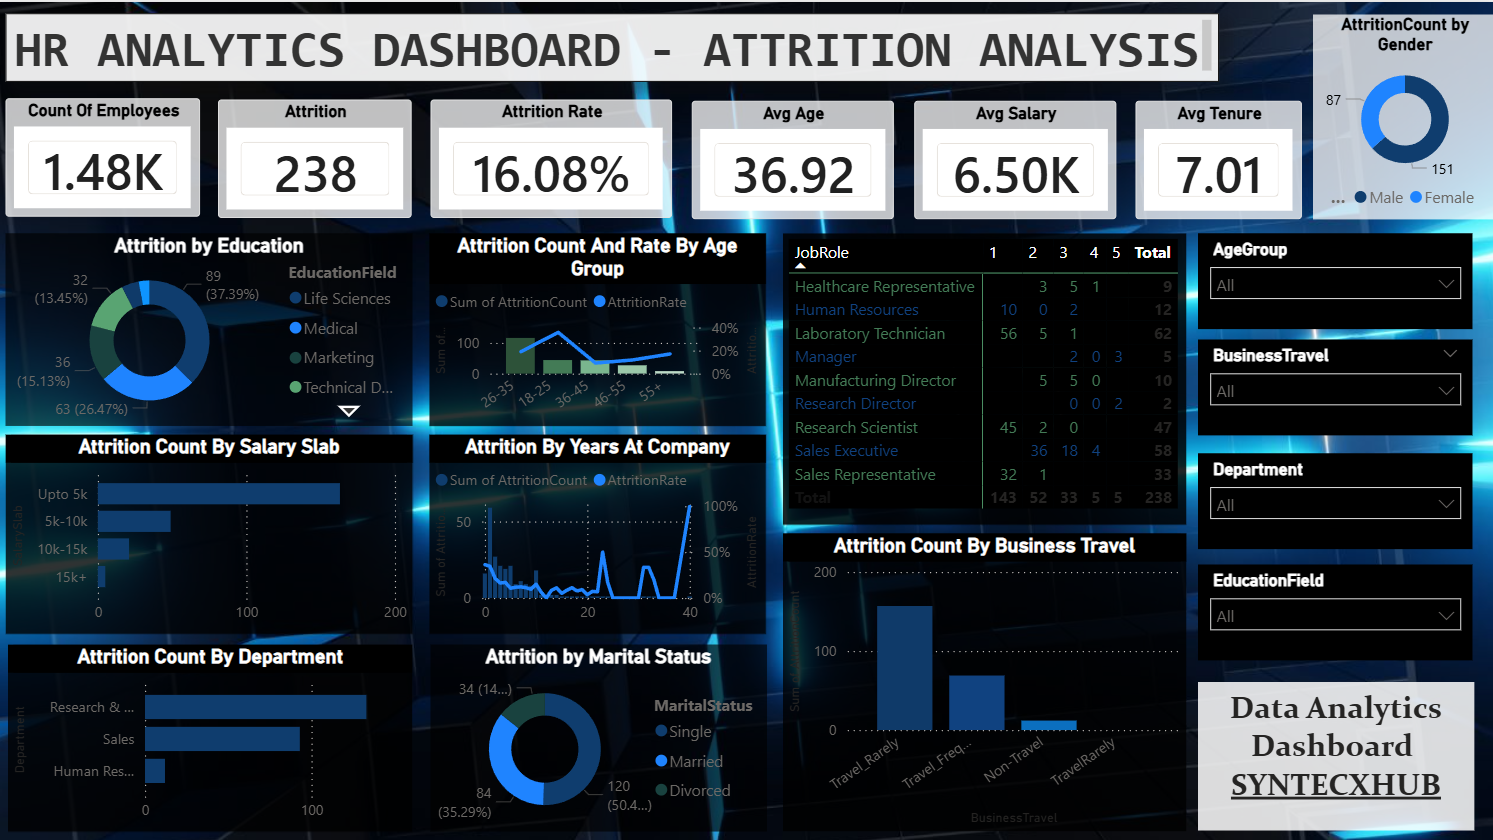

This screenshot's page, from the dashboard's own definition file:
{"tool":"powerbi","page":{"name":"Page 1","canvas":[1280,720],"ordinal":0},"visuals":[{"type":"textbox","box":[10.5,9.3,1032.6,58.1],"z":0},{"type":"cardVisual","title":"Count Of Employees","fields":{"Data":["CountNonNull(HR_Analytics - HR_Analytics csv.EmpID)"]},"box":[10.2,81.8,165.9,101.1],"z":1000},{"type":"cardVisual","title":"Attrition","fields":{"Data":["Sum(HR_Analytics - HR_Analytics csv.AttritionCount)"]},"box":[191.9,82.6,165.1,101.2],"z":2000},{"type":"cardVisual","title":"Attrition Rate","fields":{"Data":["HR_Analytics - HR_Analytics csv.AttritionRate"]},"box":[372.1,82.6,205.8,101.2],"z":3000},{"type":"cardVisual","title":"Avg Age","fields":{"Data":["Avg(HR_Analytics - HR_Analytics csv.Age)"]},"box":[594.2,83.7,172.1,101.2],"z":4000},{"type":"cardVisual","title":"Avg Salary","fields":{"Data":["Avg(HR_Analytics - HR_Analytics csv.MonthlyIncome)"]},"box":[783.7,83.7,172.1,101.2],"z":5000},{"type":"cardVisual","title":"Avg Tenure","fields":{"Data":["Avg(HR_Analytics - HR_Analytics csv.YearsAtCompany)"]},"box":[972.1,83.7,141.9,101.2],"z":6000},{"type":"donutChart","title":"AttritionCount by Gender","fields":{"Category":["HR_Analytics - HR_Analytics csv.Gender"],"Y":["Sum(HR_Analytics - HR_Analytics csv.AttritionCount)"]},"box":[1123.3,10.5,157,174.4],"z":7000},{"type":"donutChart","title":" Attrition by Education","fields":{"Category":["HR_Analytics - HR_Analytics csv.EducationField","HR_Analytics - HR_Analytics csv.YearsAtCompany"],"Y":["Sum(HR_Analytics - HR_Analytics csv.AttritionCount)"]},"box":[10.2,196.6,346.6,163.6],"z":8000},{"type":"lineStackedColumnComboChart","title":"Attrition Count And Rate By Age Group","fields":{"Category":["HR_Analytics - HR_Analytics csv.AgeGroup"],"Y":["Sum(HR_Analytics - HR_Analytics csv.AttritionCount)"],"Y2":["HR_Analytics - HR_Analytics csv.AttritionRate"]},"box":[371.6,196.6,286.4,163.6],"z":9000},{"type":"pivotTable","fields":{"Rows":["HR_Analytics - HR_Analytics csv.JobRole"],"Columns":["HR_Analytics - HR_Analytics csv.JobLevel"],"Values":["Sum(HR_Analytics - HR_Analytics csv.AttritionCount)"]},"box":[672.1,196.5,343,247.7],"z":10000},{"type":"barChart","title":"Attrition Count By Salary Slab","fields":{"Y":["Sum(HR_Analytics - HR_Analytics csv.AttritionCount)"],"Category":["HR_Analytics - HR_Analytics csv.SalarySlab"]},"box":[10.2,368.2,346.6,169.3],"z":11000},{"type":"lineStackedColumnComboChart","title":"Attrition By Years At Company","fields":{"Y":["Sum(HR_Analytics - HR_Analytics csv.AttritionCount)"],"Y2":["HR_Analytics - HR_Analytics csv.AttritionRate"],"Category":["HR_Analytics - HR_Analytics csv.YearsAtCompany"]},"box":[371.6,368.2,286.4,169.3],"z":12000},{"type":"barChart","title":"Attrition Count By Department","fields":{"Y":["Sum(HR_Analytics - HR_Analytics csv.AttritionCount)"],"Category":["HR_Analytics - HR_Analytics csv.Department"]},"box":[12.5,546.6,344.3,159.1],"z":13000},{"type":"donutChart","title":" Attrition by Marital Status","fields":{"Y":["Sum(HR_Analytics - HR_Analytics csv.AttritionCount)"],"Category":["HR_Analytics - HR_Analytics csv.MaritalStatus"]},"box":[372.1,546.5,286,159.3],"z":14000},{"type":"columnChart","title":"Attrition Count By Business Travel","fields":{"Y":["Sum(HR_Analytics - HR_Analytics csv.AttritionCount)"],"Category":["HR_Analytics - HR_Analytics csv.BusinessTravel"]},"box":[672.1,452.3,343,253.5],"z":15000},{"type":"slicer","fields":{"Values":["HR_Analytics - HR_Analytics csv.AgeGroup"]},"box":[1025.6,196.5,233.7,81.4],"z":16000},{"type":"slicer","fields":{"Values":["HR_Analytics - HR_Analytics csv.BusinessTravel"]},"box":[1025.6,287.2,233.7,81.4],"z":17000},{"type":"slicer","fields":{"Values":["HR_Analytics - HR_Analytics csv.Department"]},"box":[1025.6,383.7,233.7,81.4],"z":18000},{"type":"slicer","fields":{"Values":["HR_Analytics - HR_Analytics csv.EducationField"]},"box":[1025.6,479.1,233.7,81.4],"z":19000},{"type":"textbox","box":[1025.6,579.1,234.9,126.7],"z":20000}]}

Visuals, with their boxes in screenshot pixels (x1, y1, x2, y2), scaled from the page's 1280x720 canvas onto the 1493x840 screenshot:
textbox: 12/11/1217/79
"Count Of Employees" cardVisual: 12/95/205/213
"Attrition" cardVisual: 224/96/416/214
"Attrition Rate" cardVisual: 434/96/674/214
"Avg Age" cardVisual: 693/98/894/216
"Avg Salary" cardVisual: 914/98/1115/216
"Avg Tenure" cardVisual: 1134/98/1299/216
"AttritionCount by Gender" donutChart: 1310/12/1492/216
" Attrition by Education" donutChart: 12/229/416/420
"Attrition Count And Rate By Age Group" lineStackedColumnComboChart: 433/229/767/420
pivotTable - HR_Analytics - HR_Analytics csv.JobRole x HR_Analytics - HR_Analytics csv.JobLevel: 784/229/1184/518
"Attrition Count By Salary Slab" barChart: 12/430/416/627
"Attrition By Years At Company" lineStackedColumnComboChart: 433/430/767/627
"Attrition Count By Department" barChart: 15/638/416/823
" Attrition by Marital Status" donutChart: 434/638/768/823
"Attrition Count By Business Travel" columnChart: 784/528/1184/823
slicer - HR_Analytics - HR_Analytics csv.AgeGroup: 1196/229/1469/324
slicer - HR_Analytics - HR_Analytics csv.BusinessTravel: 1196/335/1469/430
slicer - HR_Analytics - HR_Analytics csv.Department: 1196/448/1469/543
slicer - HR_Analytics - HR_Analytics csv.EducationField: 1196/559/1469/654
textbox: 1196/676/1470/823
